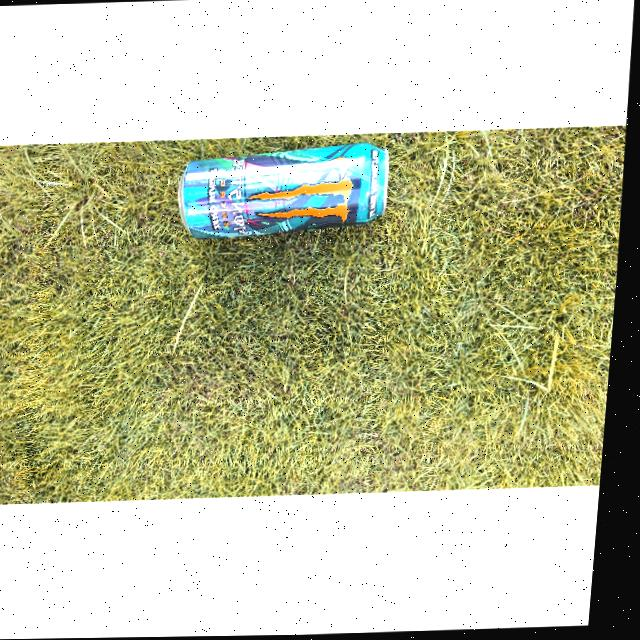Monster LH44: (181, 144, 394, 238)
